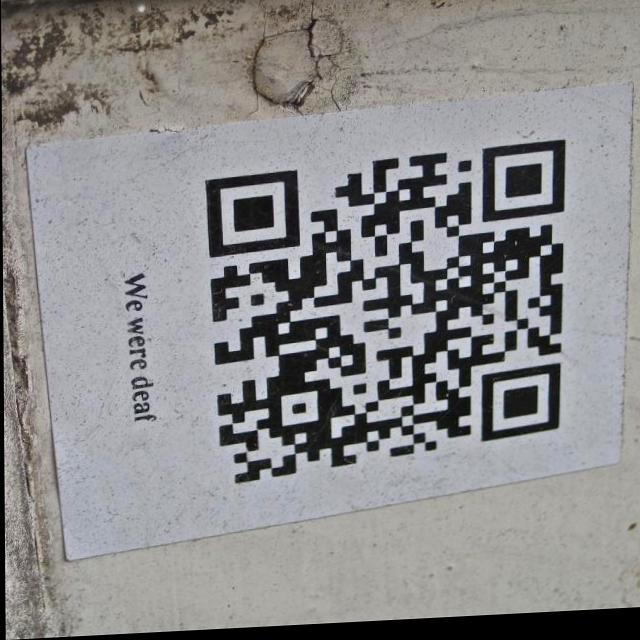qrcode: (205, 147, 567, 491)
